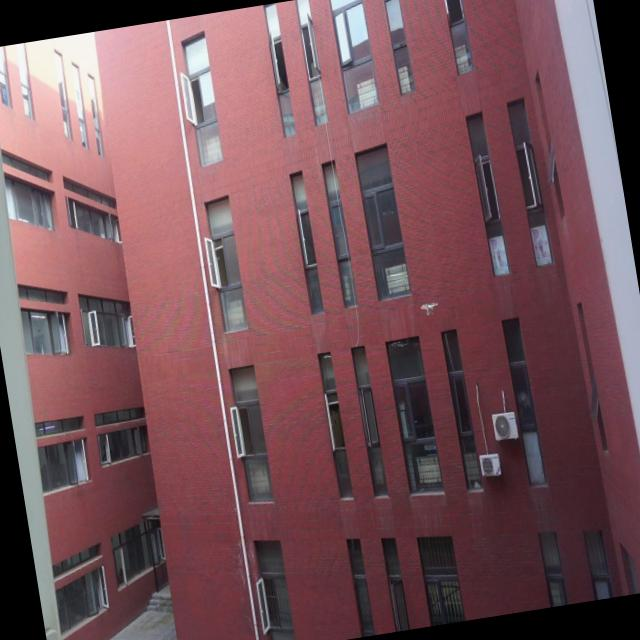drone: (417, 297, 442, 321)
